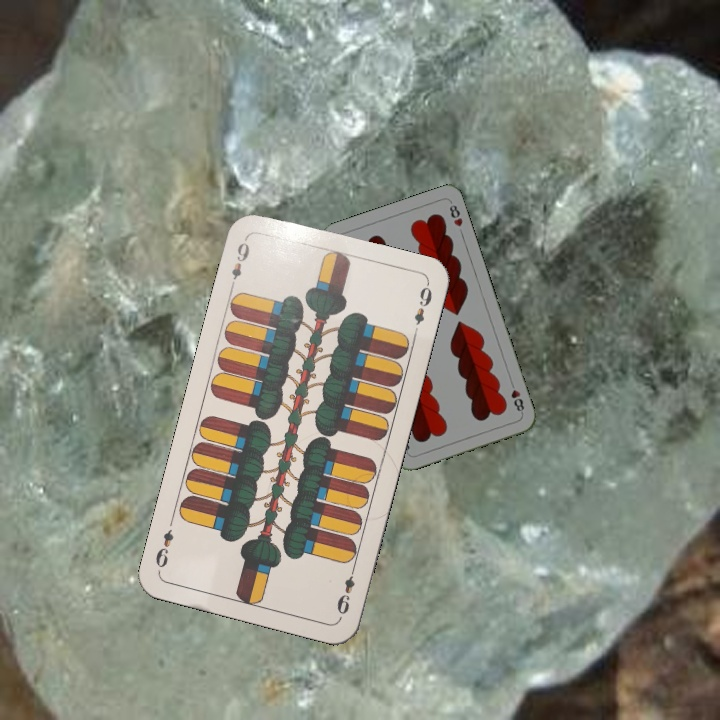E9: (333, 562, 358, 620), (227, 234, 252, 292)
H8: (506, 377, 527, 416)
